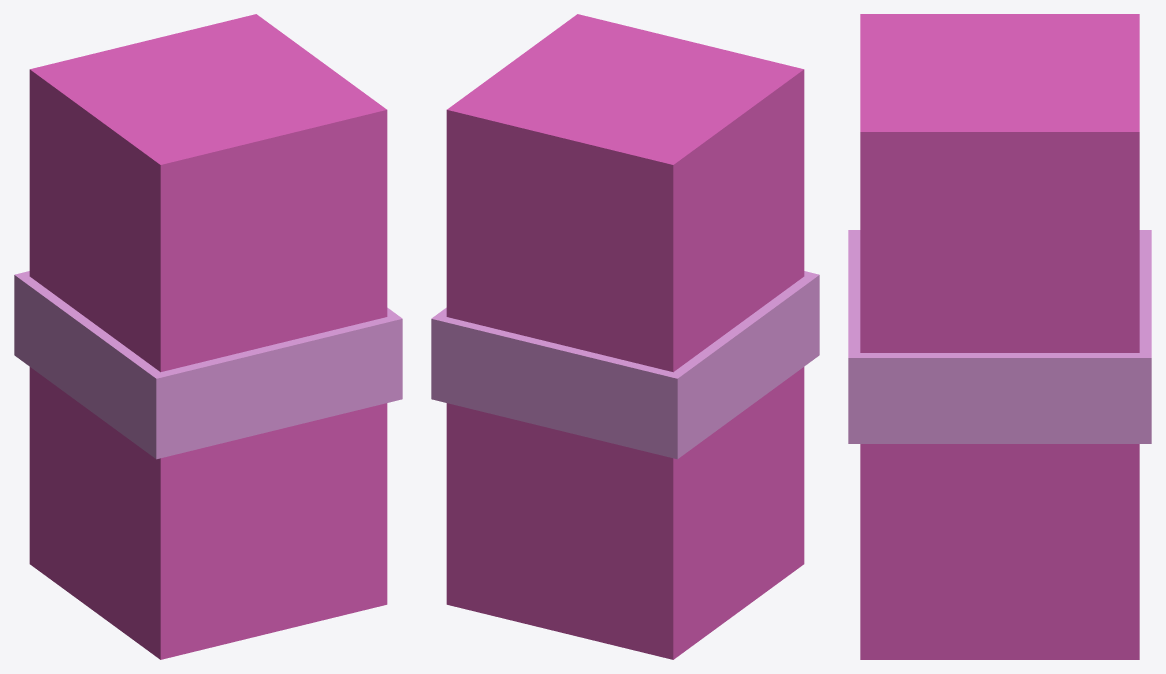
Rendered from platfome2V.glb.
3 views of the same model, side by side, from view 1: azimuth 30°, elevation 25°; view 2: azimuth 150°, elevation 25°; view 3: azimuth 270°, elevation 25° (orthographic). The views are drawn at different scales.
Visible parts, largest first — view 1: player_shell, platform; view 2: player_shell, platform; view 3: player_shell, platform.
Boxes of the visible parts, <box> form: player_shell: <box>29,14,387,659</box>; platform: <box>14,271,402,459</box>; player_shell: <box>446,14,804,659</box>; platform: <box>431,271,819,459</box>; player_shell: <box>860,14,1139,659</box>; platform: <box>848,230,1151,443</box>.
Size of the model in its own units: 0.8 by 1.54 by 0.8.
